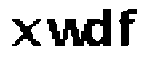d: (85, 7, 115, 49)
f: (117, 8, 141, 47)
w: (45, 15, 89, 51)
x: (8, 13, 44, 52)
